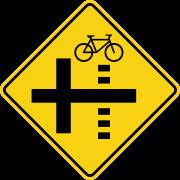Cycle Crossing: (17, 4, 160, 174)
